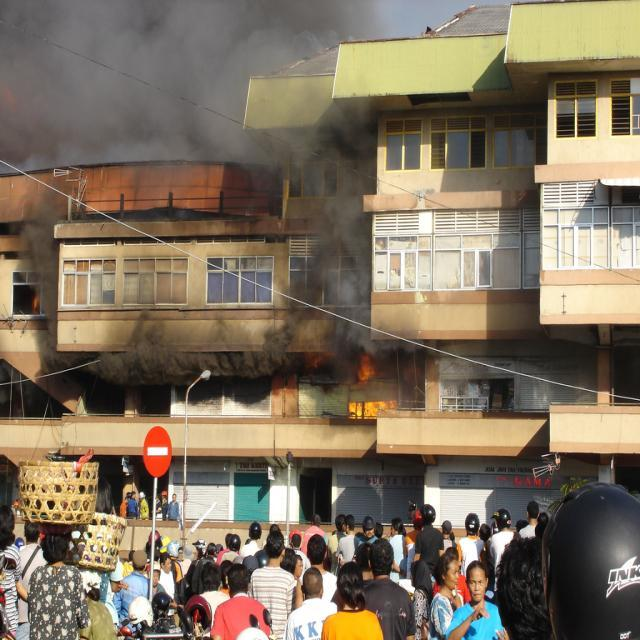Fire: (348, 346, 392, 434)
Smoke: (22, 8, 246, 142)
